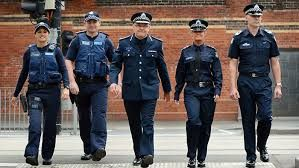uniform: (234, 30, 276, 146), (20, 40, 60, 154), (72, 30, 111, 146), (177, 45, 218, 153)
